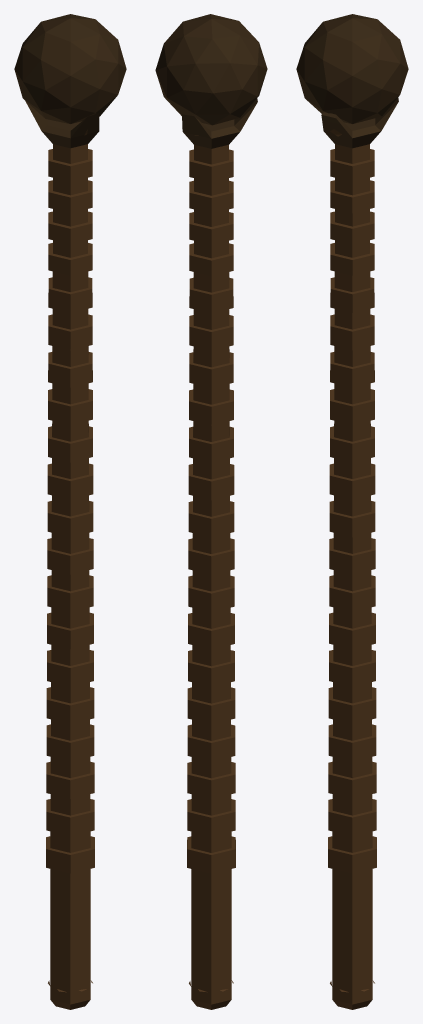
File: staff.fbx
3 renders of one model, left to right at view 1: azimuth 90°, elevation 25°; view 2: azimuth 150°, elevation 25°; view 3: azimuth 270°, elevation 25°, orthographic.
Visible parts, largest first — view 1: staff; view 2: staff; view 3: staff.
Boxes of the visible parts, bbox=[...] form: staff: bbox=[14, 14, 126, 1009]; staff: bbox=[155, 14, 267, 1009]; staff: bbox=[296, 14, 408, 1009].
Size of the model in its own units: 14.66 by 149 by 15.42.
